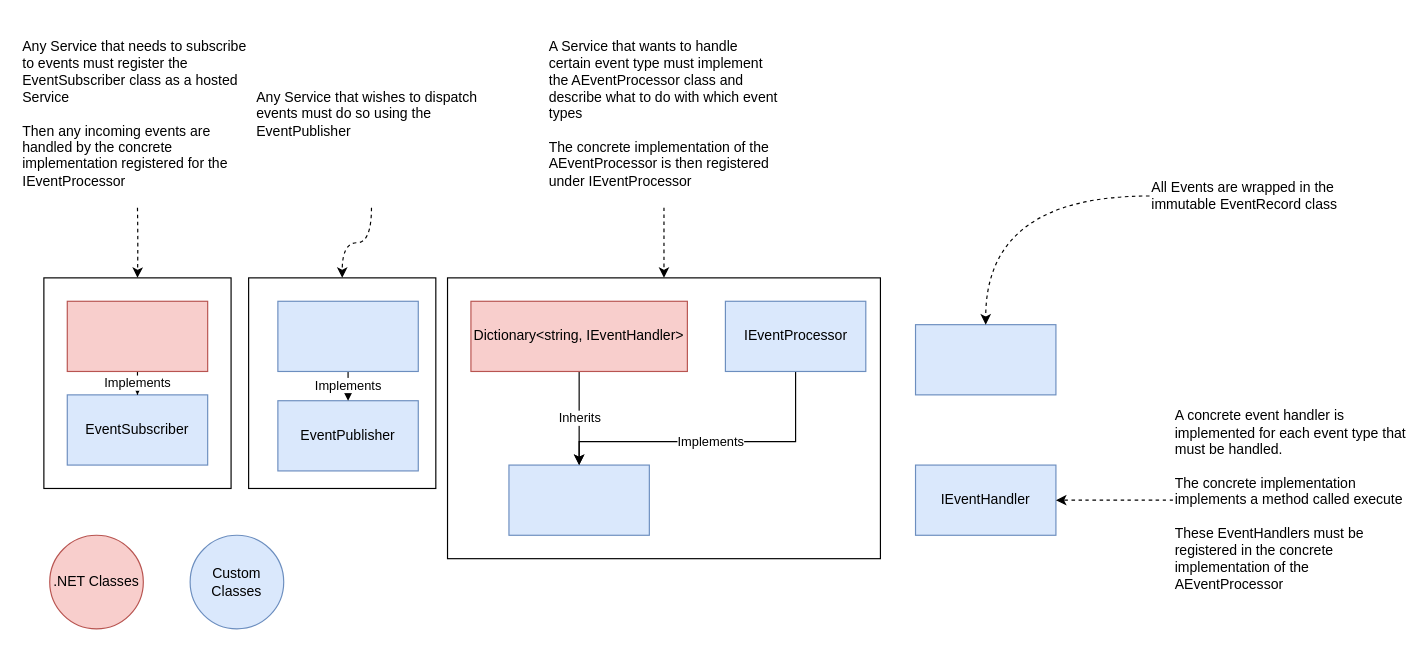
The diagram is 1426 pixels wide and 649 high, and some of its shapes have lost their labels. The centre of each missing label's shape, as x and y in pixels:
"AEventProcessor" belongs at point (578, 499).
"BackgroundService" belongs at point (137, 335).
"EventRecord" belongs at point (985, 359).
"IEventPublisher" belongs at point (347, 335).
